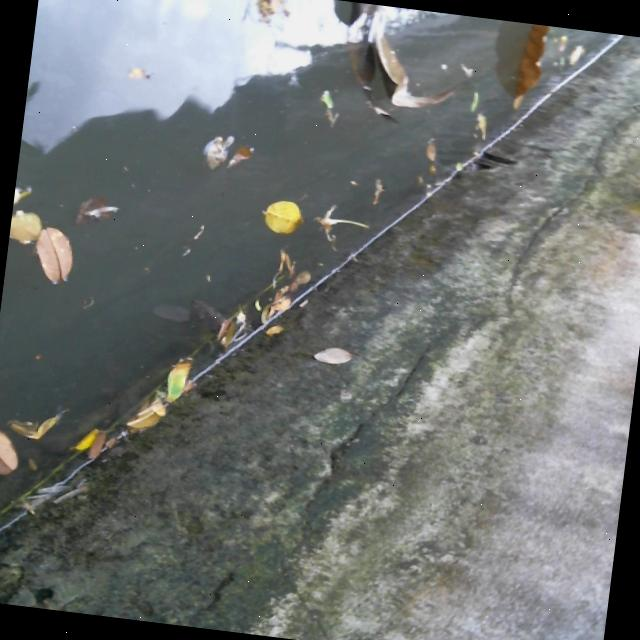Big-leaf: (335, 1, 465, 133), (508, 22, 550, 113), (226, 0, 289, 37)
Small-leaf: (22, 215, 96, 299), (47, 424, 113, 483), (187, 128, 253, 185), (241, 192, 307, 246), (153, 350, 198, 408), (110, 397, 169, 440), (7, 197, 46, 247), (414, 133, 451, 177), (0, 430, 28, 485), (256, 290, 301, 324), (555, 36, 590, 79), (466, 111, 499, 155), (307, 82, 340, 123), (285, 270, 326, 296), (455, 88, 484, 123)
